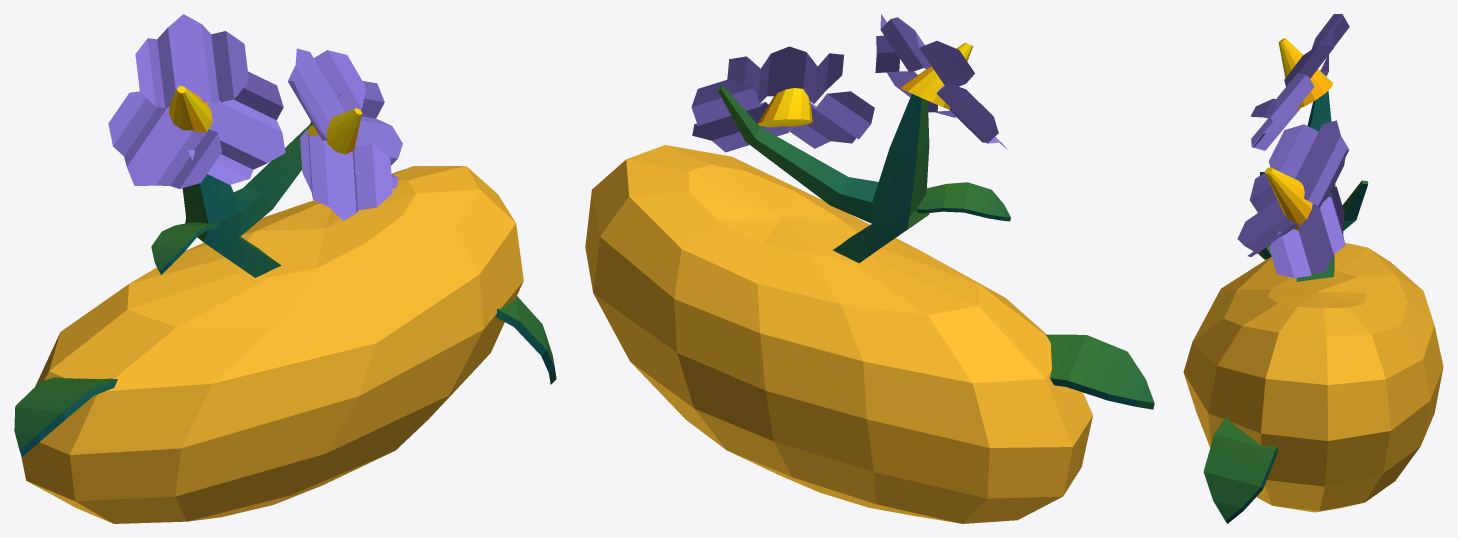
File: PotatoFlower.fbx
The picture shows the model from 3 angles, left to right: view 1: azimuth 30°, elevation 25°; view 2: azimuth 150°, elevation 25°; view 3: azimuth 270°, elevation 25°; orthographic projection. The views are drawn at different scales.
Visible parts, largest first — view 1: Sphere; view 2: Sphere; view 3: Sphere.
Boxes of the visible parts, x1=… form: Sphere: x1=14, y1=14, x2=556, y2=523; Sphere: x1=585, y1=14, x2=1154, y2=523; Sphere: x1=1183, y1=14, x2=1443, y2=523.
Bounding box in the file's own units: 15.94 × 34.1 × 30.02.
